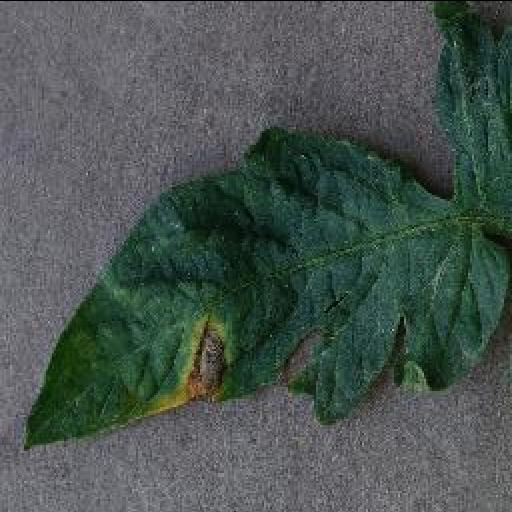disease_tomato: (22, 122, 512, 454)
